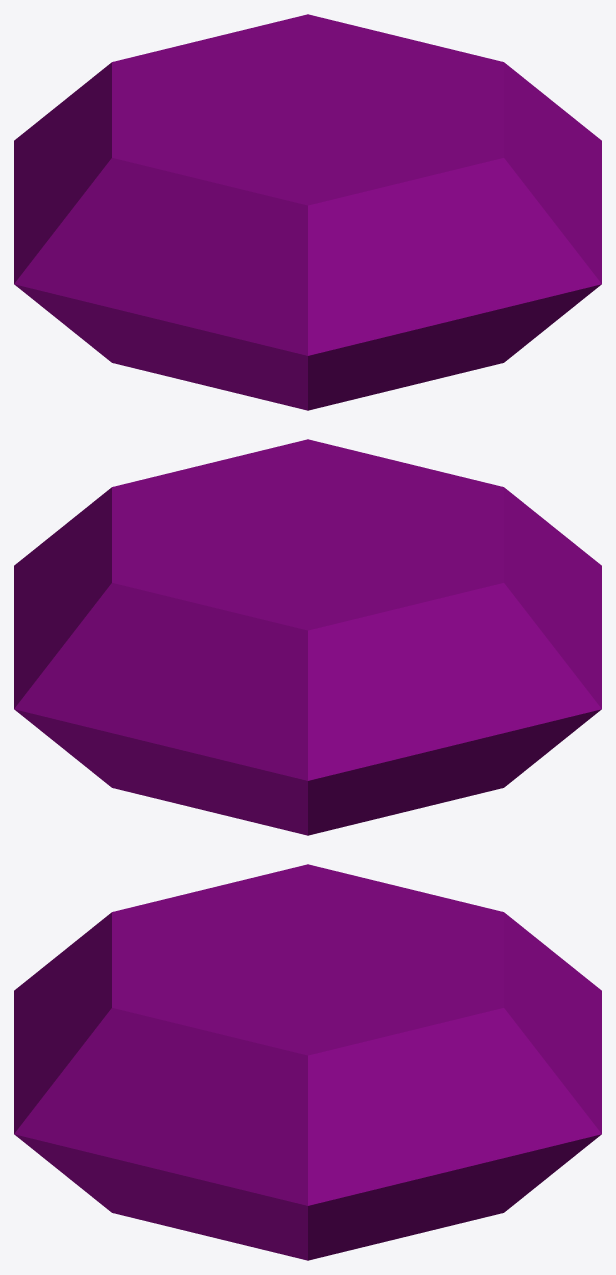
The model's file is Diamant.dae.
3 renders of one model, top to bottom at view 1: azimuth 30°, elevation 25°; view 2: azimuth 150°, elevation 25°; view 3: azimuth 270°, elevation 25°, orthographic.
Visible parts, largest first — view 1: SketchUp; view 2: SketchUp; view 3: SketchUp.
Boxes of the visible parts, box(x1,y1,x2,y2) form: SketchUp: box(14, 14, 601, 410); SketchUp: box(14, 439, 601, 835); SketchUp: box(14, 864, 601, 1260).
Size of the model in its own units: 118 by 102 by 39.37.
